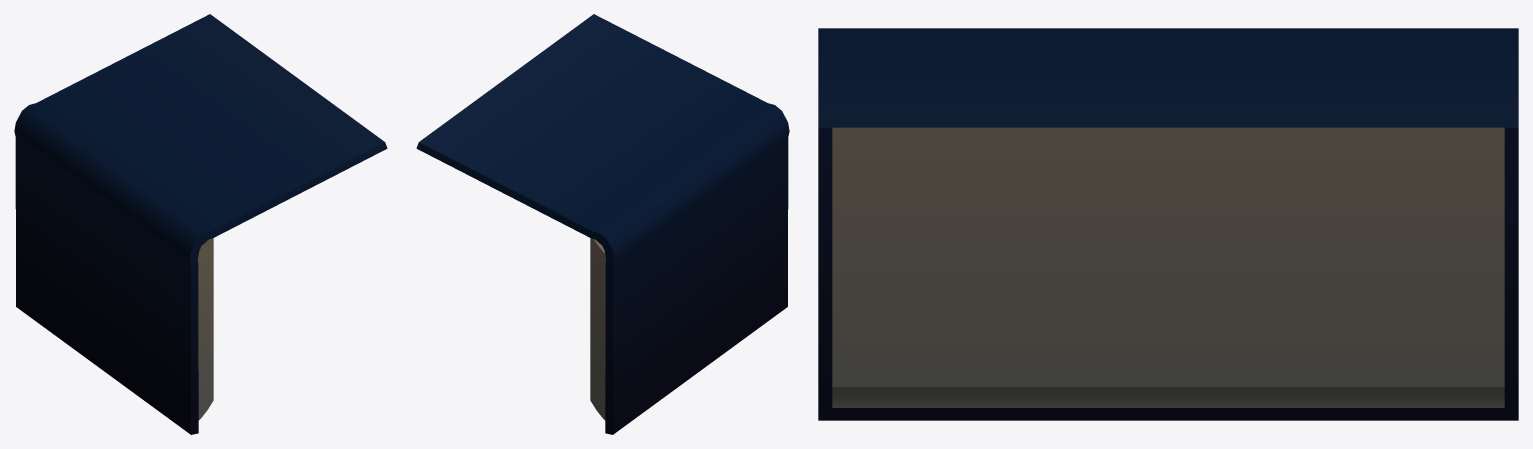
File: bookcover.fbx
3 renders of one model, left to right at view 1: azimuth 30°, elevation 25°; view 2: azimuth 150°, elevation 25°; view 3: azimuth 270°, elevation 25°, orthographic. The views are drawn at different scales.
Visible parts, largest first — view 1: Plane; view 2: Plane; view 3: Plane.
Boxes of the visible parts, <box> form: Plane: <box>14,14,387,434</box>; Plane: <box>416,14,789,434</box>; Plane: <box>818,28,1518,420</box>.
Size of the model in its own units: 174 by 206 by 266.
Materials: 1 (1 with a texture image).
